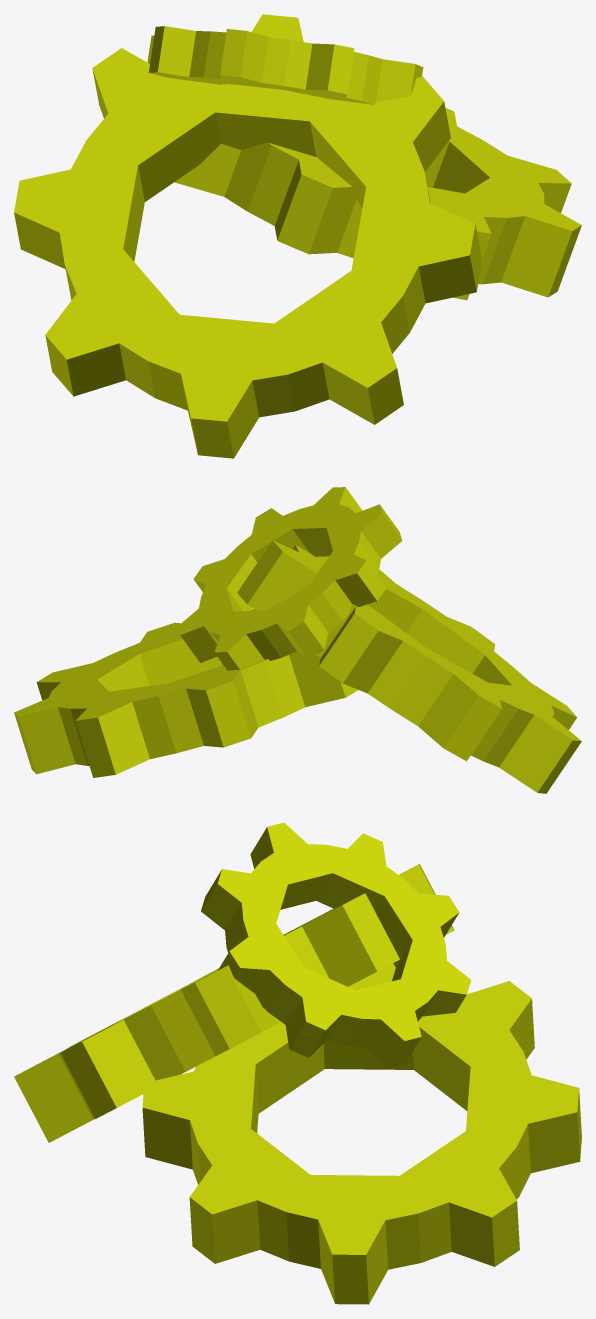
The model's file is Collectables.fbx.
3 views of the same model, one above another, from view 1: azimuth 30°, elevation 25°; view 2: azimuth 150°, elevation 25°; view 3: azimuth 270°, elevation 25° (orthographic). The views are drawn at different scales.
Parts seen in each view (by area): view 1: Gear; view 2: Gear; view 3: Gear.
Part boxes in pixels (x1,y1,x2,y2): Gear: (14,14,581,458); Gear: (14,487,581,793); Gear: (14,822,581,1304).
Size of the model in its own units: 358 by 203 by 313.
